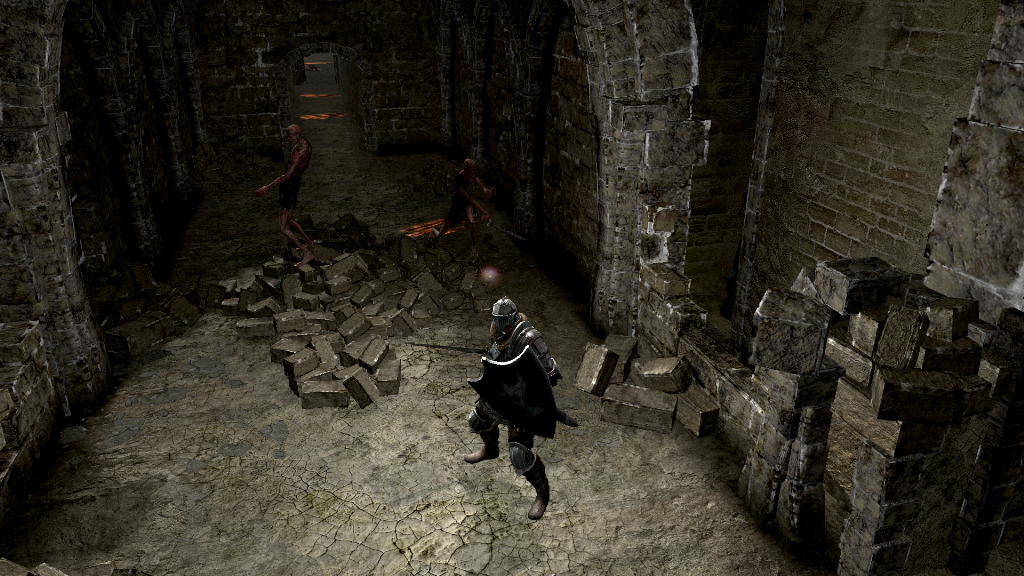hollow: (256, 123, 317, 267), (427, 158, 493, 263)
player: (406, 294, 561, 522)
